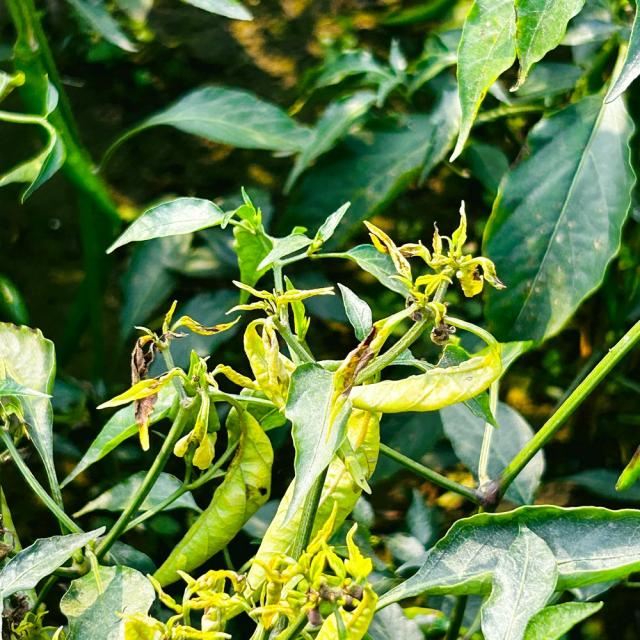Chilli_Leaf_Curl: (1, 1, 638, 638), (92, 185, 508, 634), (478, 78, 637, 348), (371, 502, 639, 639), (91, 83, 315, 175), (447, 0, 518, 163), (0, 320, 60, 504), (349, 342, 502, 414), (0, 68, 67, 204), (0, 525, 107, 605), (104, 195, 236, 254)
